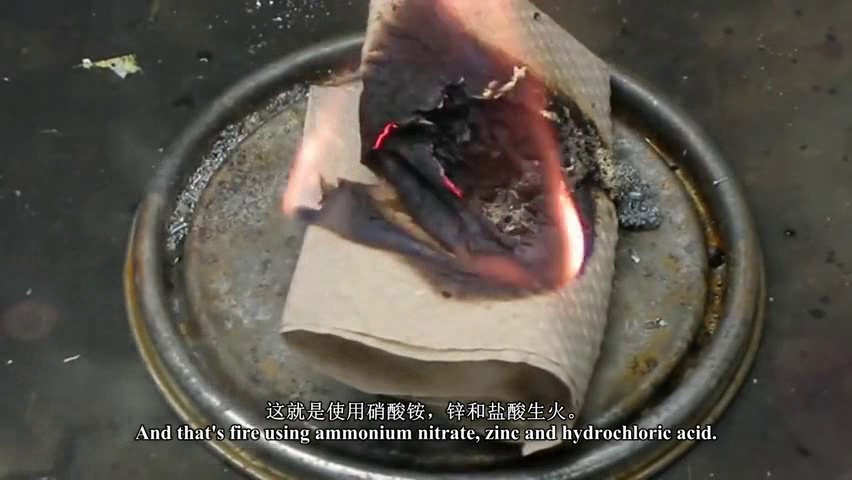fire: (480, 3, 591, 294)
